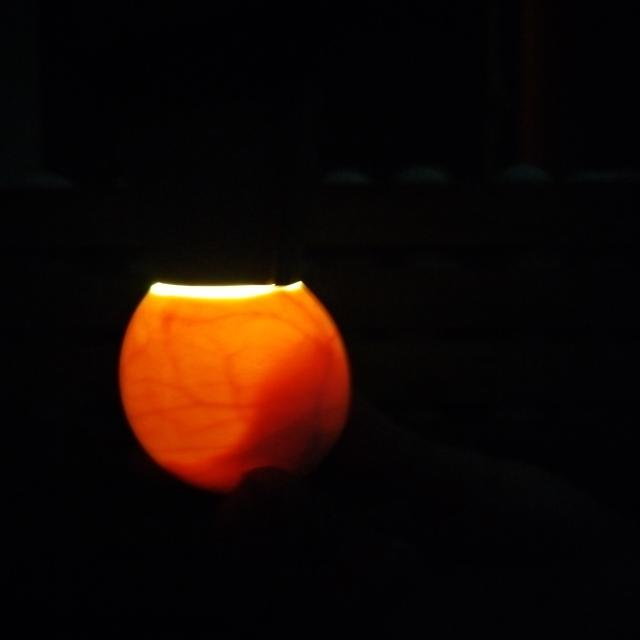Embriao: (178, 349, 349, 493)
